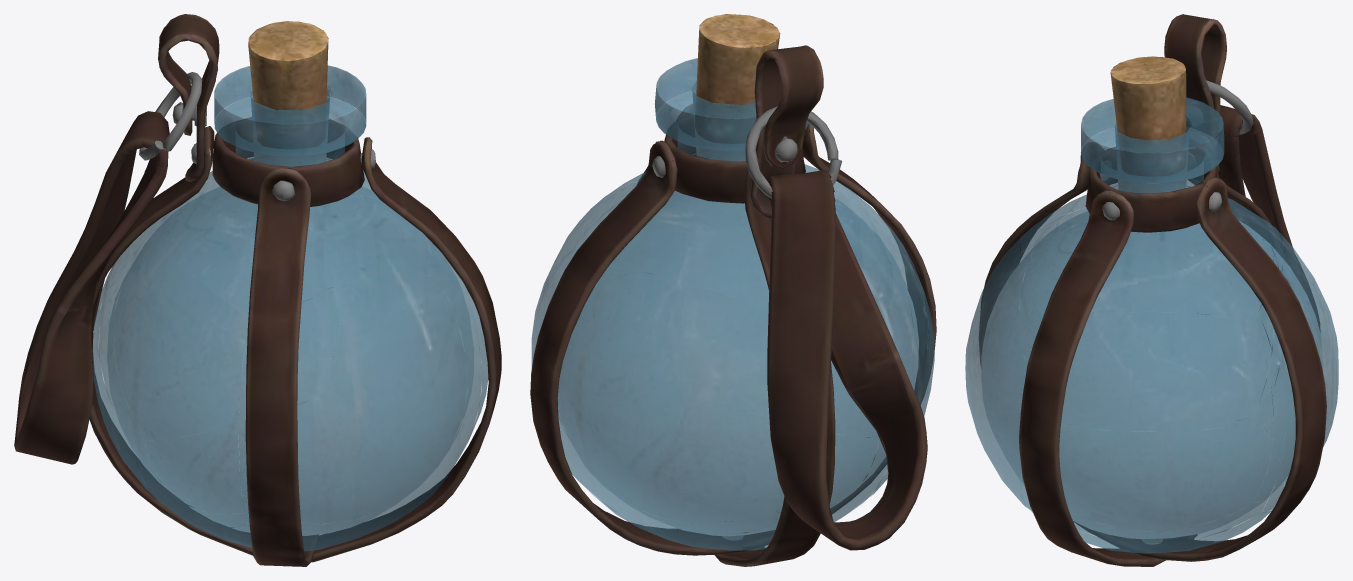
The model's file is coti_small_bottle.glb.
The picture shows the model from 3 angles, left to right: view 1: azimuth 30°, elevation 25°; view 2: azimuth 150°, elevation 25°; view 3: azimuth 270°, elevation 25°; orthographic projection. The views are drawn at different scales.
Parts seen in each view (by area): view 1: Fiksator__0; view 2: Fiksator__0; view 3: Fiksator__0.
Part boxes in pixels (x1,y1,x2,y2): Fiksator__0: [14, 14, 501, 566]; Fiksator__0: [530, 14, 936, 566]; Fiksator__0: [965, 14, 1338, 566].
Size of the model in its own units: 0.233 by 0.3003 by 0.2006.
Materials: 1 (1 with a texture image).
